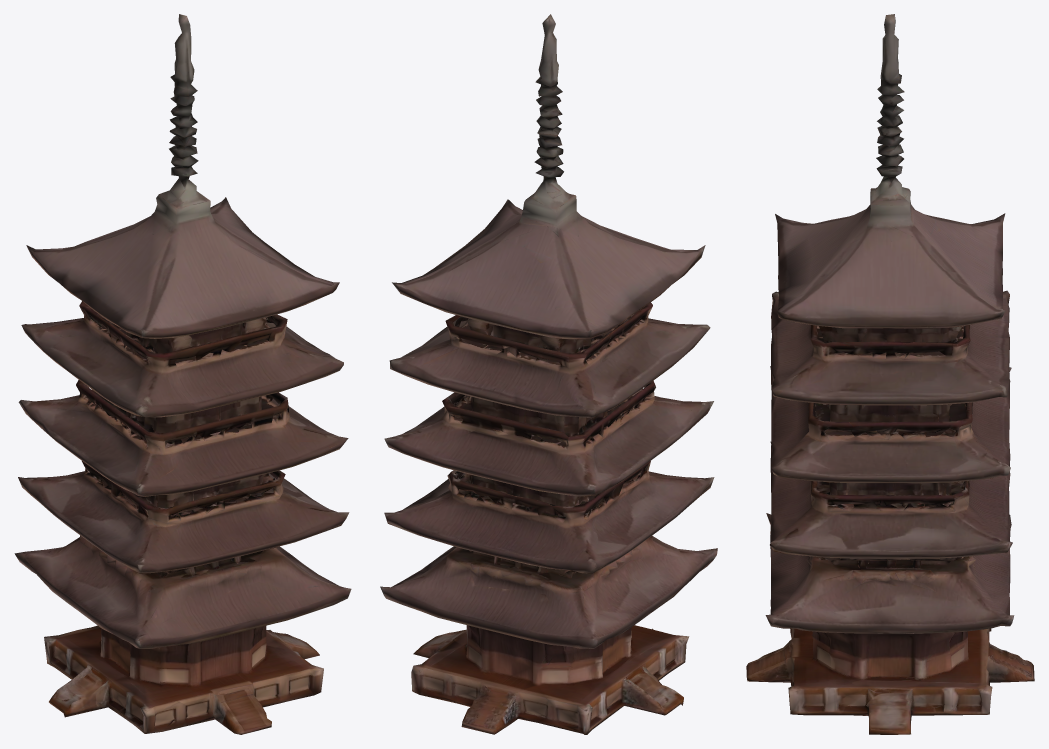
File: pagoda-optimized.glb
The picture shows the model from 3 angles, left to right: view 1: azimuth 30°, elevation 25°; view 2: azimuth 150°, elevation 25°; view 3: azimuth 270°, elevation 25°; orthographic projection.
Size of the model in its own units: 0.7624 by 1.92 by 0.7582.
Materials: 1 (1 with a texture image).
